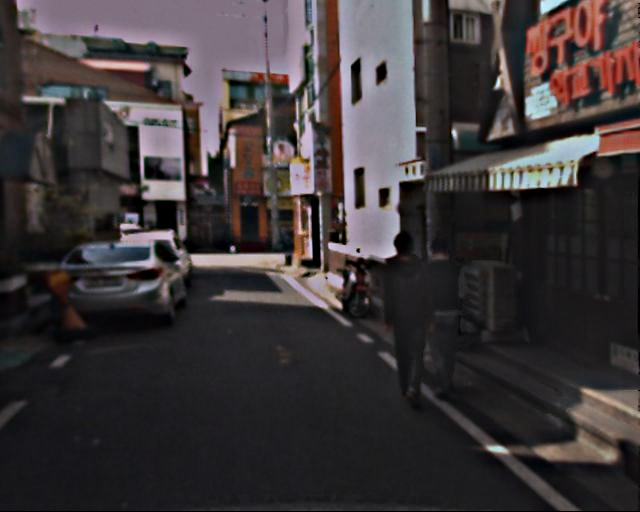person: (372, 234, 445, 411), (407, 236, 473, 398)
